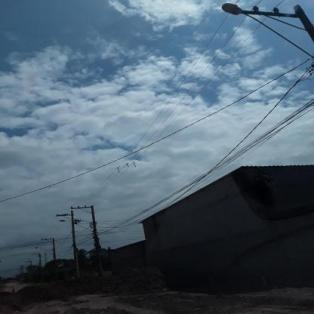Poste: (293, 3, 314, 56), (89, 206, 103, 276), (69, 210, 81, 276)
